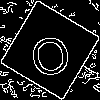O: (25, 25, 74, 79)
